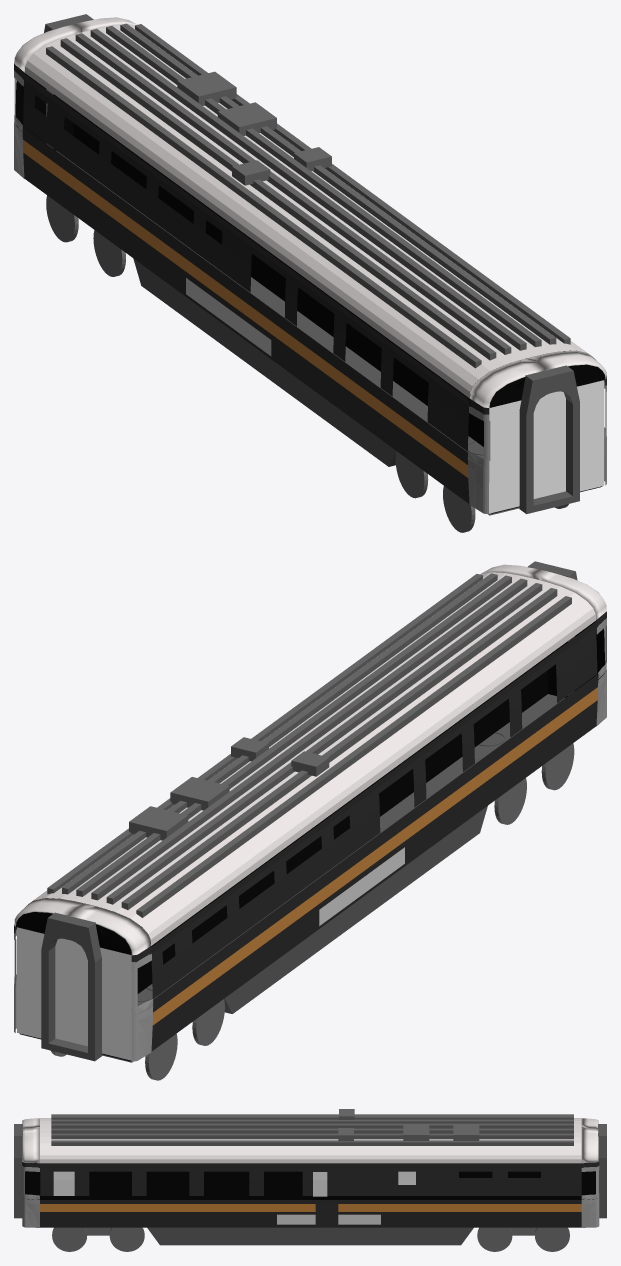
File: br-mk3-trb-gc2.dae
3 renders of one model, top to bottom at view 1: azimuth 30°, elevation 25°; view 2: azimuth 150°, elevation 25°; view 3: azimuth 270°, elevation 25°, orthographic. The views are drawn at different scales.
Visible parts, largest first — view 1: Suzanne_001, Plane_007, Plane_001, Plane_017, Plane_111, Cube, Cube_011, Cube_008, Cube_010, Cube_009, Tube_003, Cube_004 (+19 smaller); view 2: Suzanne_001, Plane_007, Plane_100, Plane_017, Plane_111, Cube, Cube_011, Cube_008, Cube_010, Cube_009, Tube_002, Cube_004 (+19 smaller); view 3: Plane_134, Suzanne_001, Plane_111, Cube, Plane_147, Cube_002, Cube_003, Cube_008, Cube_004, Plane_135, Plane_136, Cube_009 (+30 smaller).
Boxes of the visible parts, <box> form: Suzanne_001: <box>24,24,592,398</box>; Plane_007: <box>23,140,469,503</box>; Plane_001: <box>489,380,604,513</box>; Plane_017: <box>31,106,251,292</box>; Plane_111: <box>73,108,483,446</box>; Cube: <box>133,258,396,466</box>; Cube_011: <box>46,46,481,368</box>; Cube_008: <box>90,29,526,350</box>; Cube_010: <box>60,38,496,360</box>; Cube_009: <box>75,33,511,354</box>; Tube_003: <box>519,365,579,514</box>; Cube_004: <box>106,26,541,347</box>; Suzanne_001: <box>28,572,595,945</box>; Plane_007: <box>151,687,597,1051</box>; Plane_100: <box>17,927,132,1060</box>; Plane_017: <box>160,794,380,993</box>; Plane_111: <box>134,656,547,993</box>; Cube: <box>224,806,487,1013</box>; Cube_011: <box>136,596,571,917</box>; Cube_008: <box>91,578,527,900</box>; Cube_010: <box>121,588,557,909</box>; Cube_009: <box>106,583,542,904</box>; Tube_002: <box>41,912,102,1061</box>; Cube_004: <box>76,575,511,896</box>; Plane_134: <box>40,1204,581,1227</box>; Suzanne_001: <box>40,1118,581,1163</box>; Plane_111: <box>23,1162,596,1199</box>; Cube: <box>147,1227,473,1245</box>; Plane_147: <box>302,1171,568,1195</box>; Cube_002: <box>51,1133,573,1139</box>; Cube_003: <box>51,1140,573,1145</box>; Cube_008: <box>51,1123,573,1128</box>; Cube_004: <box>51,1128,573,1133</box>; Plane_135: <box>40,1163,583,1167</box>; Plane_136: <box>40,1167,581,1171</box>; Cube_009: <box>51,1119,573,1123</box>.
Size of the model in its own units: 2.14 by 13.39 by 2.89.
